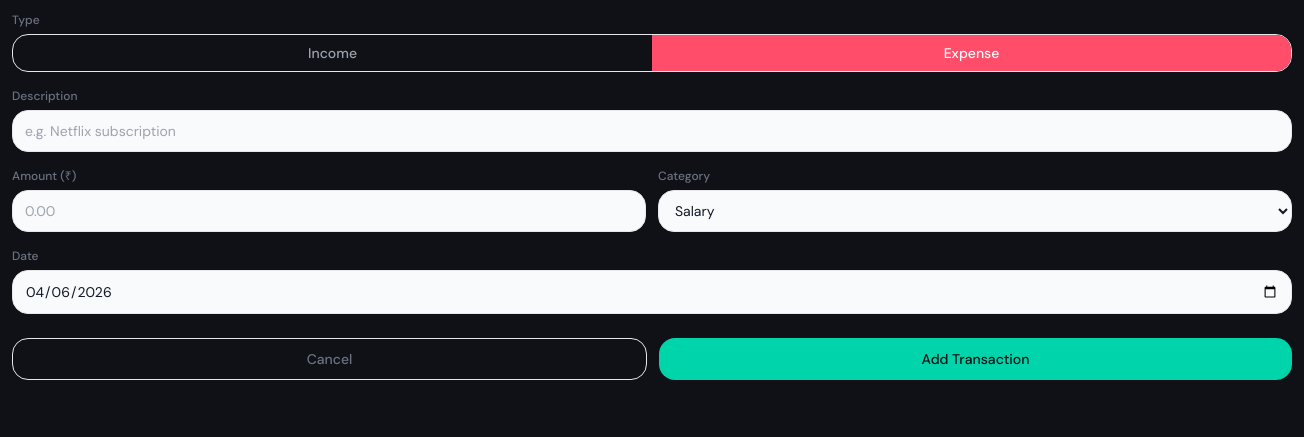
TransactionForm — validation › shows an error when description is empty on submit
Click the button "Add Transaction": coordinates (976, 359) [659,338,1292,380]
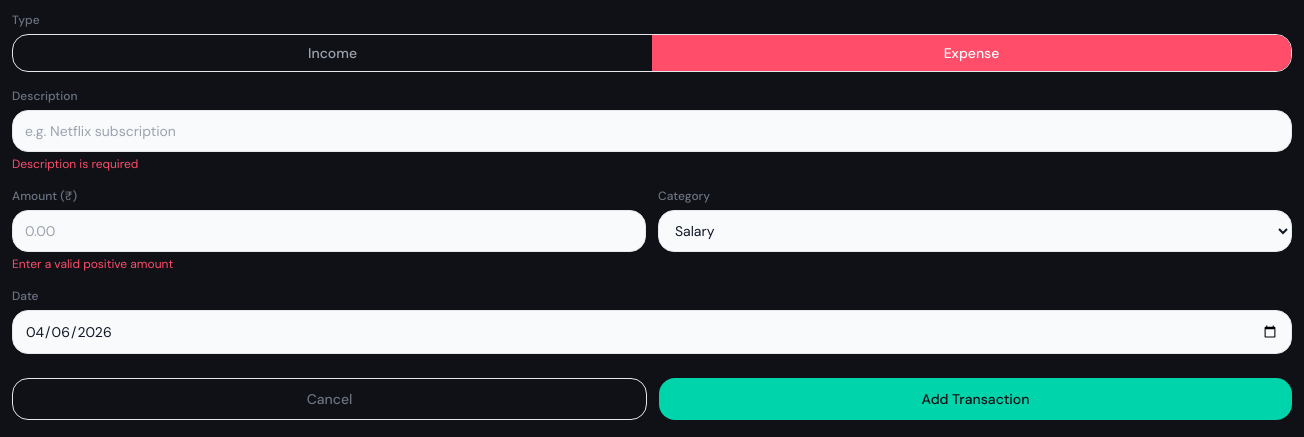
Expected: the text "Description is required" is shown, [12,156,138,172]
